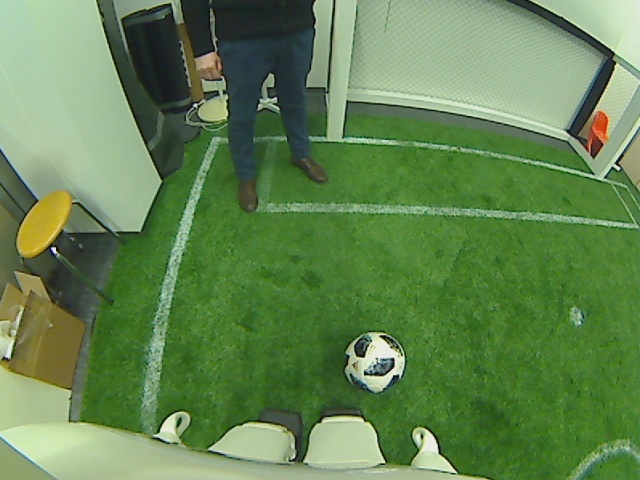ball: (341, 326, 406, 394)
